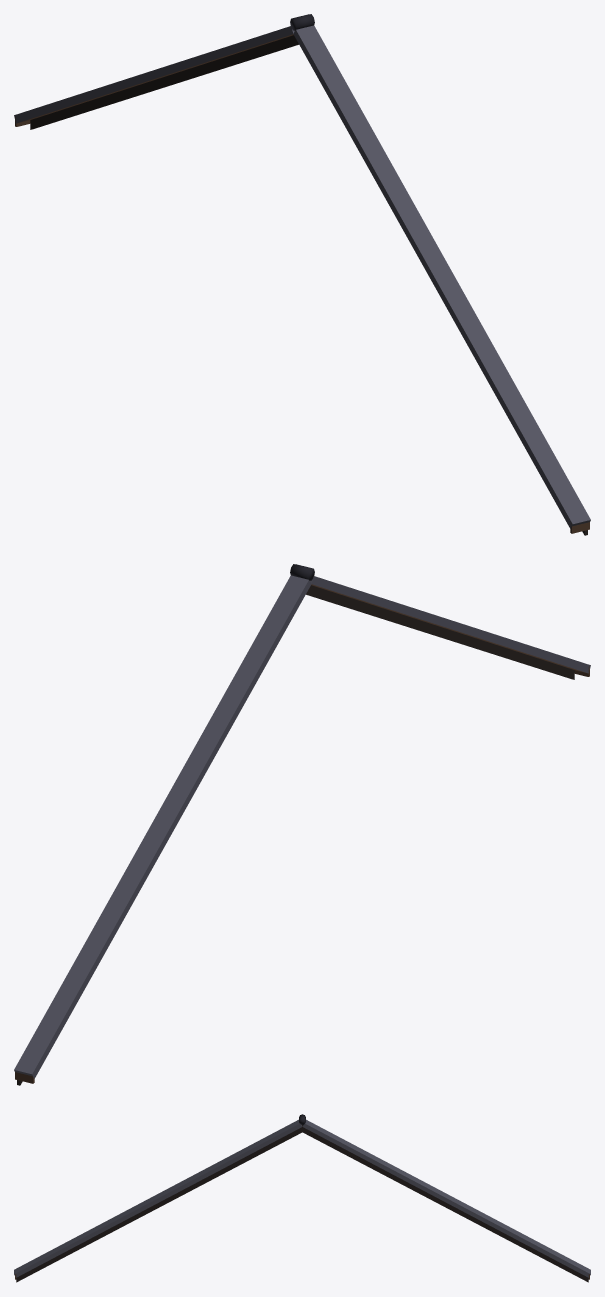
Rendered from kit_stone_slate_w11_end.glb.
3 renders of one model, top to bottom at view 1: azimuth 30°, elevation 25°; view 2: azimuth 150°, elevation 25°; view 3: azimuth 270°, elevation 25°, orthographic. The views are drawn at different scales.
Visible parts, largest first — view 1: kit_stone_slate_w11_end; view 2: kit_stone_slate_w11_end; view 3: kit_stone_slate_w11_end.
Boxes of the visible parts, x1=… form: kit_stone_slate_w11_end: x1=14, y1=14, x2=590, y2=535; kit_stone_slate_w11_end: x1=14, y1=564, x2=590, y2=1085; kit_stone_slate_w11_end: x1=14, y1=1114, x2=590, y2=1282.
Size of the model in its own units: 0.22 by 3.67 by 11.69.
